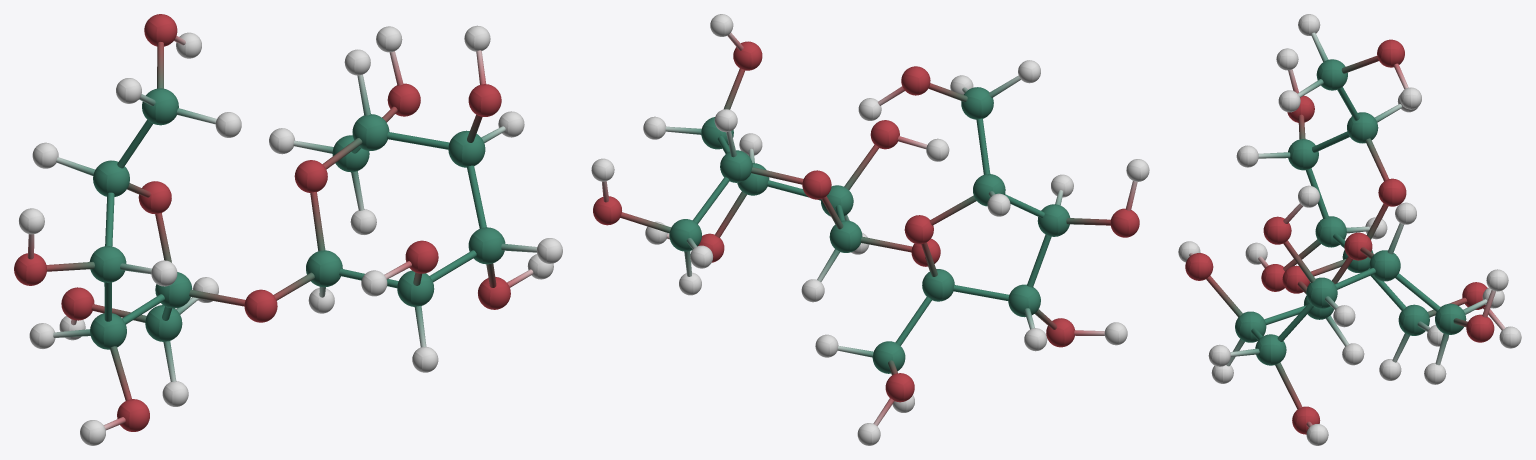
Rendered from Sucrose.fbx.
The picture shows the model from 3 angles, left to right: view 1: azimuth 30°, elevation 25°; view 2: azimuth 150°, elevation 25°; view 3: azimuth 270°, elevation 25°; orthographic projection. The views are drawn at different scales.
Parts seen in each view (by area): view 1: curMeshHyperballExportedMesh; view 2: curMeshHyperballExportedMesh; view 3: curMeshHyperballExportedMesh.
Boxes of the visible parts, x1=… form: curMeshHyperballExportedMesh: x1=14, y1=14, x2=562, y2=445; curMeshHyperballExportedMesh: x1=591, y1=14, x2=1149, y2=445; curMeshHyperballExportedMesh: x1=1178, y1=14, x2=1521, y2=445.
Bounding box in the file's own units: 9.69 × 6.63 × 6.19.
